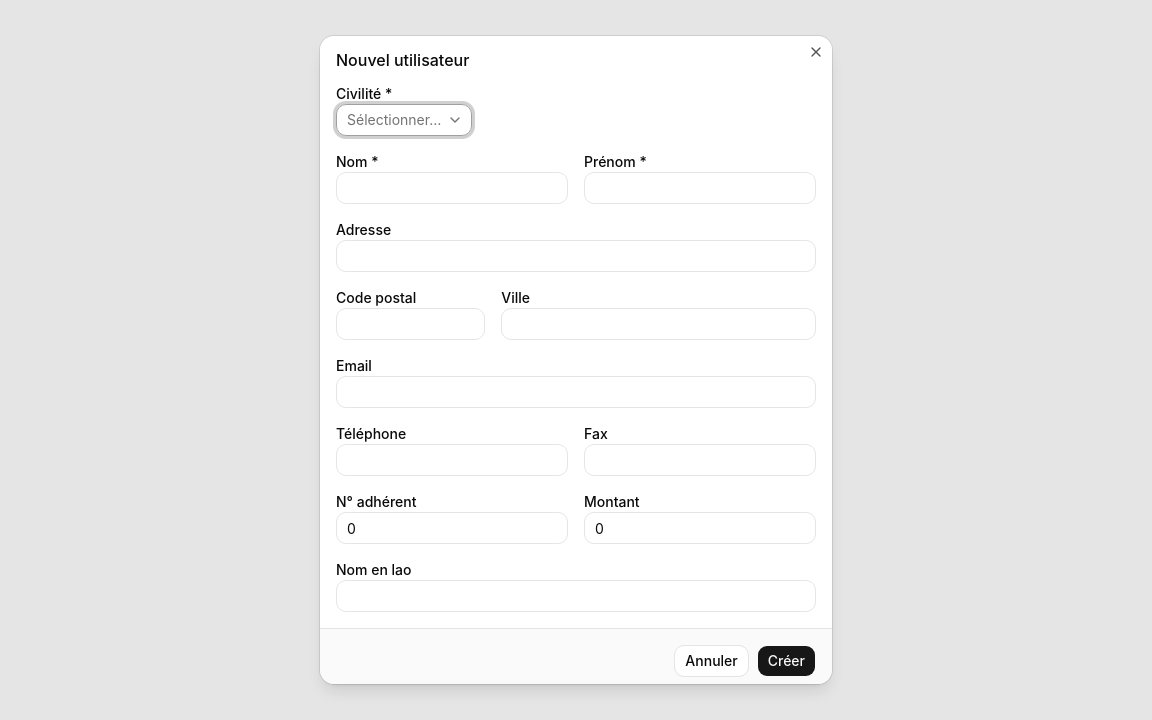
Test case: UserForm › shows validation error for empty lastName on submit
Click the button "Créer": (786, 661) [757, 645, 816, 677]
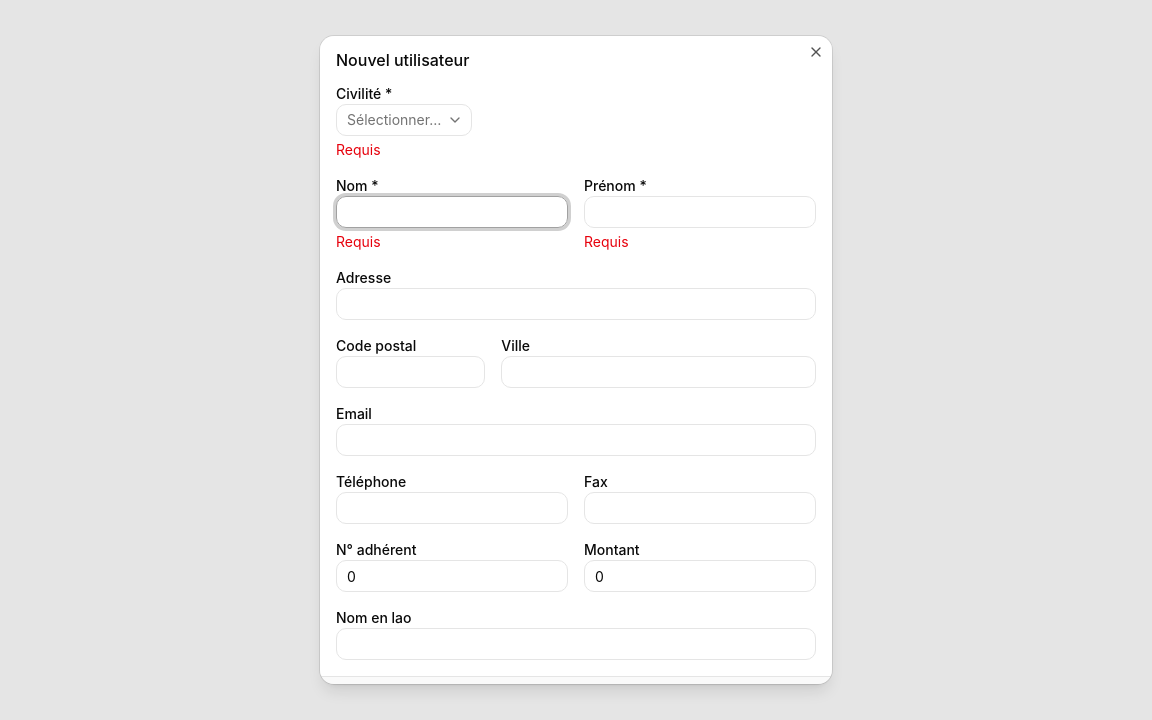
Now the text "Requis" below "Civilité *" is shown, box [336, 141, 381, 158]
